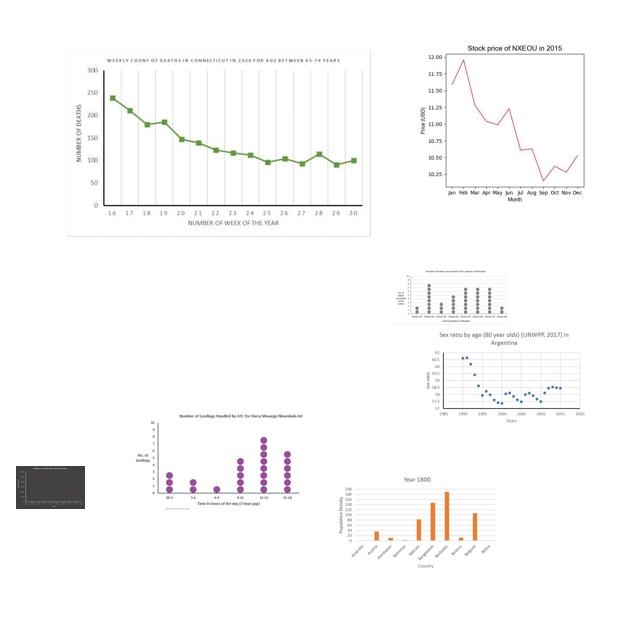Graph: (67, 50, 371, 238), (397, 33, 627, 206), (130, 410, 303, 510), (332, 472, 501, 573), (421, 330, 588, 427), (393, 269, 509, 325), (16, 466, 85, 509)
